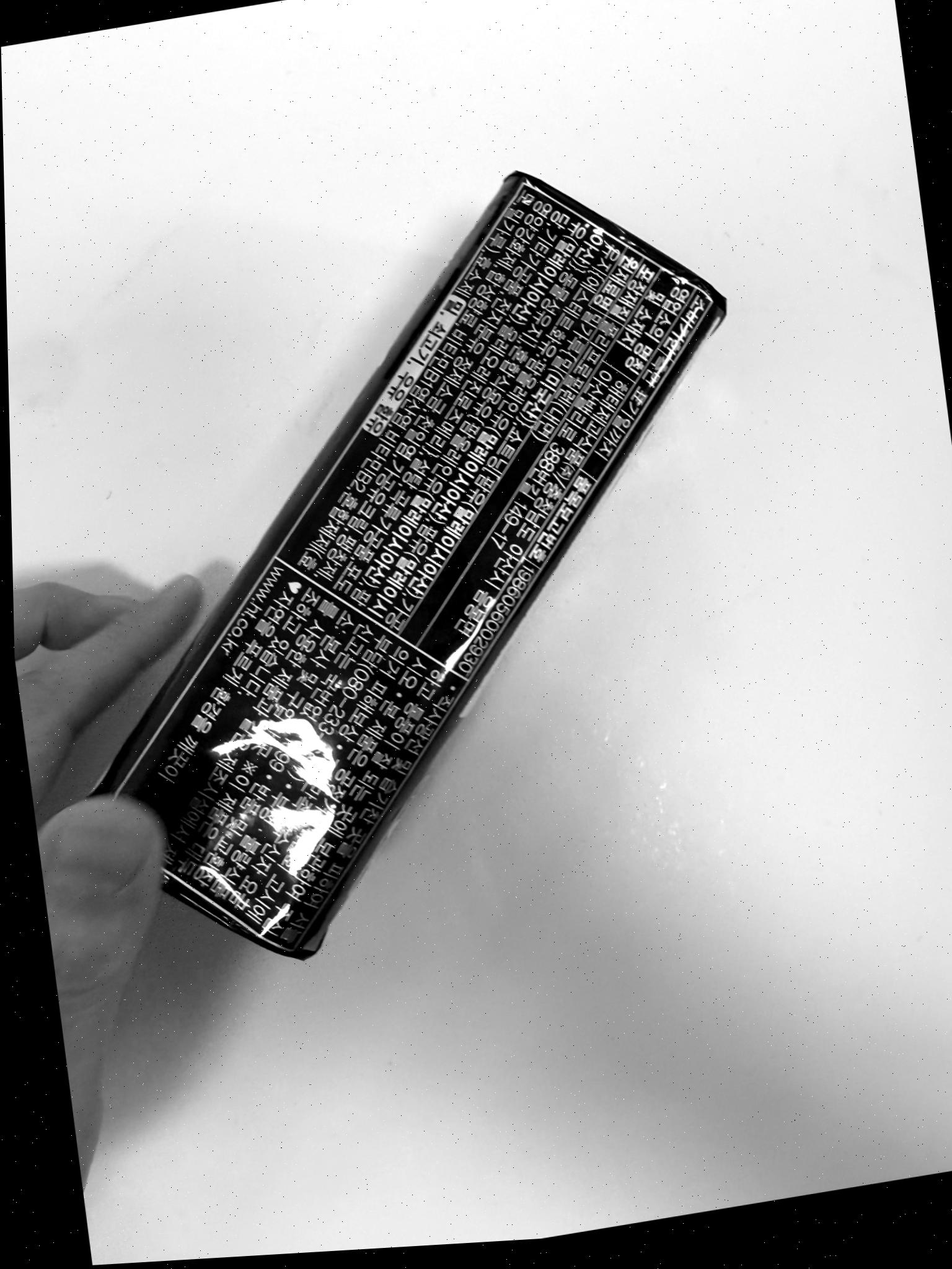cracker_ace: (95, 172, 725, 959)
